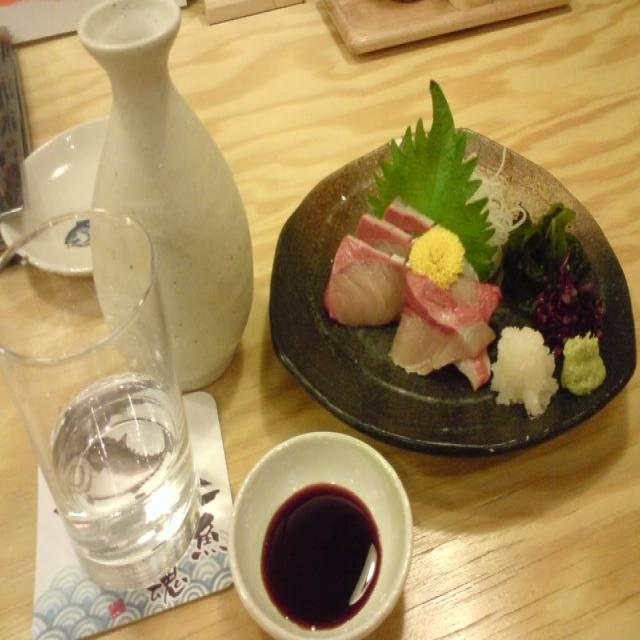刺身生食: (286, 133, 565, 439)
